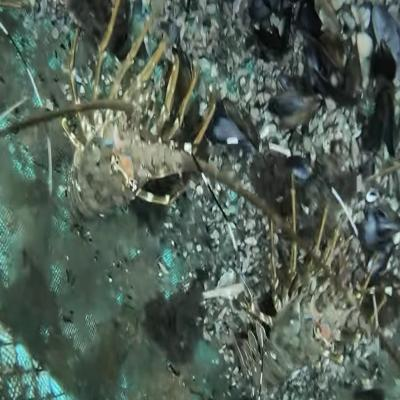lobster: (66, 44, 179, 220), (241, 211, 353, 388)
